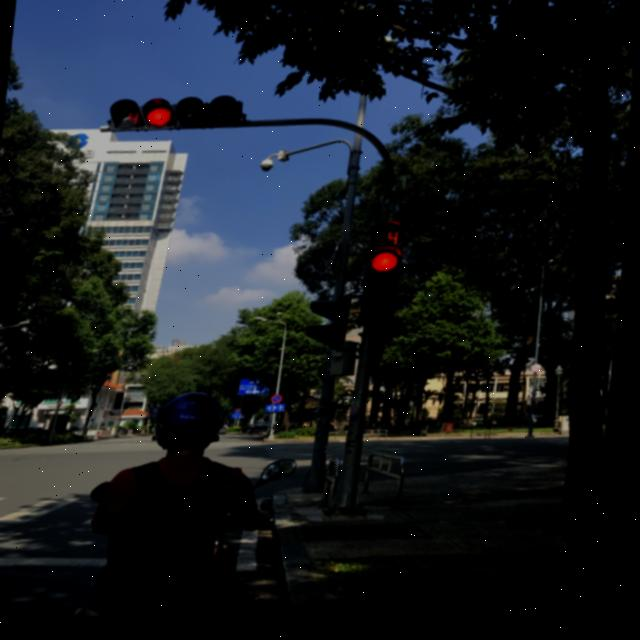Red: (135, 87, 248, 145), (363, 256, 409, 339)
